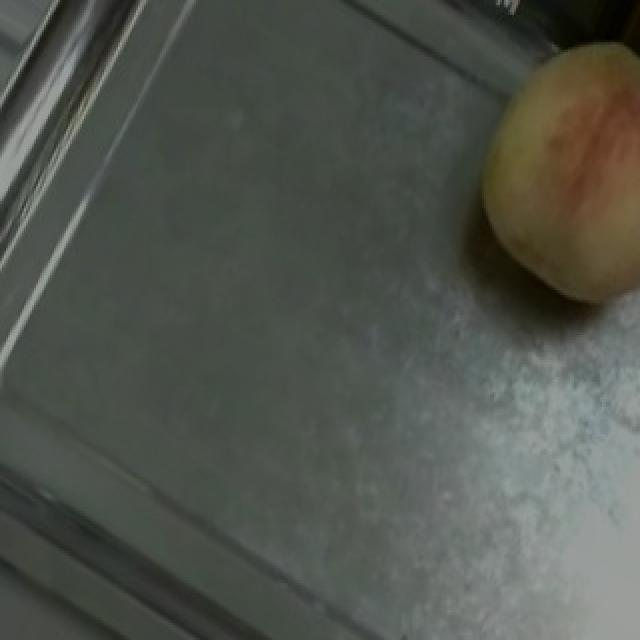Fruit: (430, 15, 640, 340)
